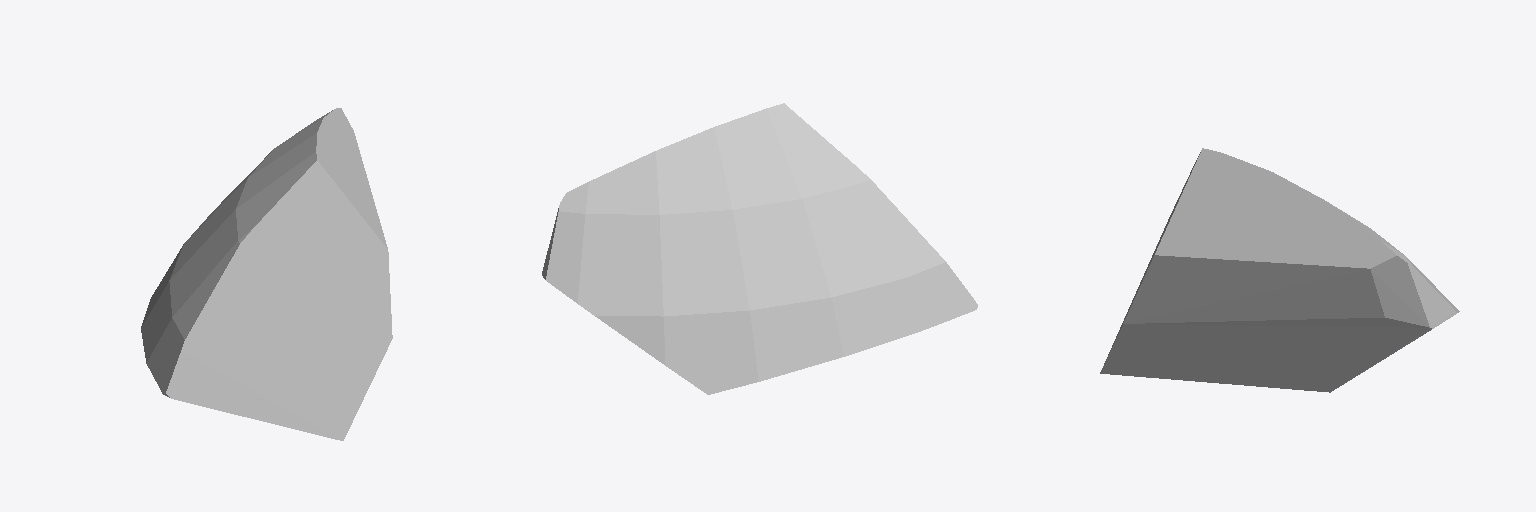
The model's file is Sphere_Cell_Fracture25.obj.
The picture shows the model from 3 angles: view 1: azimuth 30°, elevation 25°; view 2: azimuth 150°, elevation 25°; view 3: azimuth 270°, elevation 25°; orthographic projection.
Size of the model in its own units: 0.6506 by 0.4904 by 0.6727.